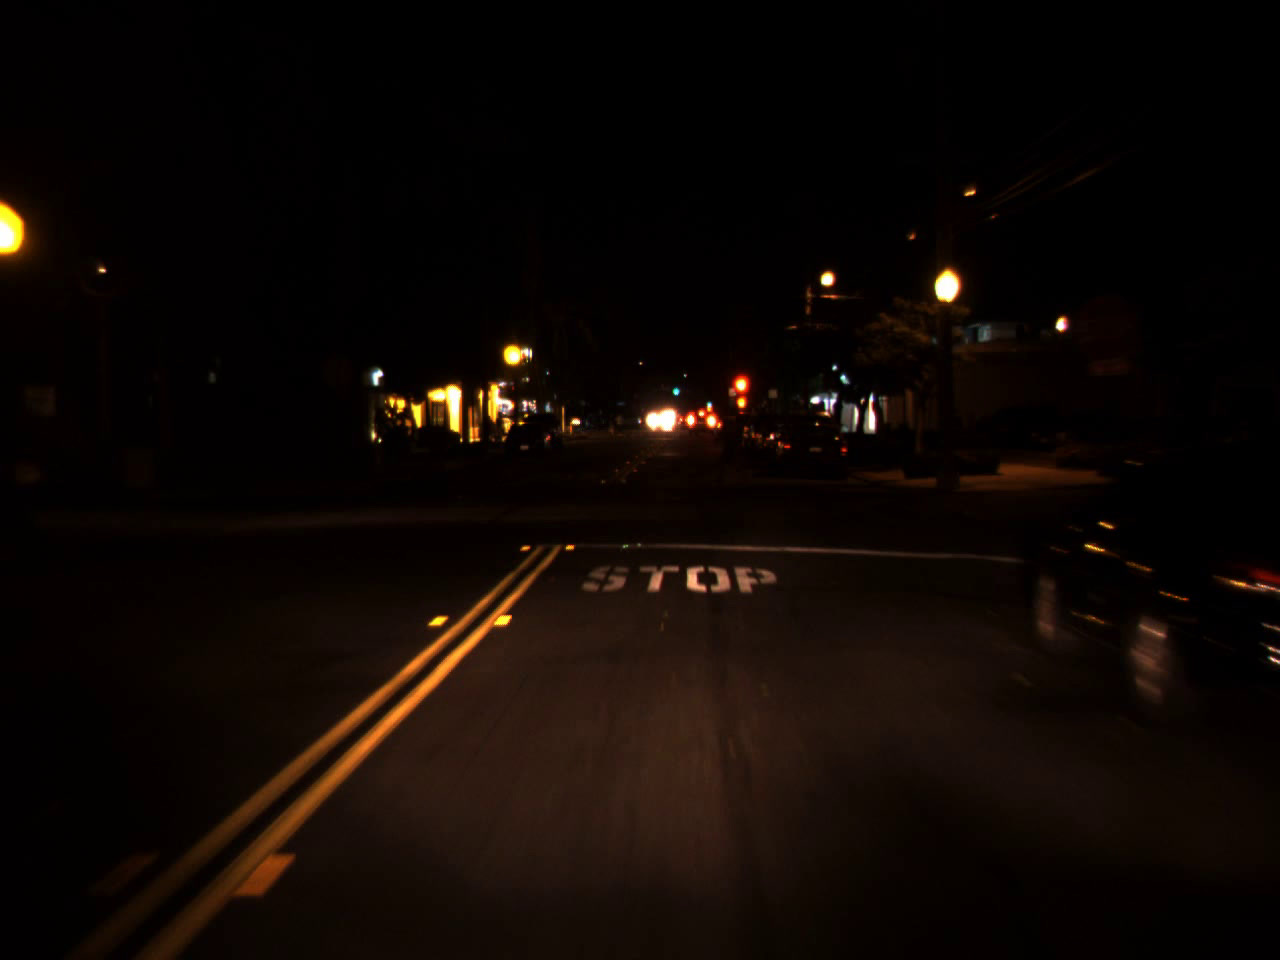go: (672, 380, 679, 398), (705, 396, 712, 408)
stop: (728, 371, 752, 419)
